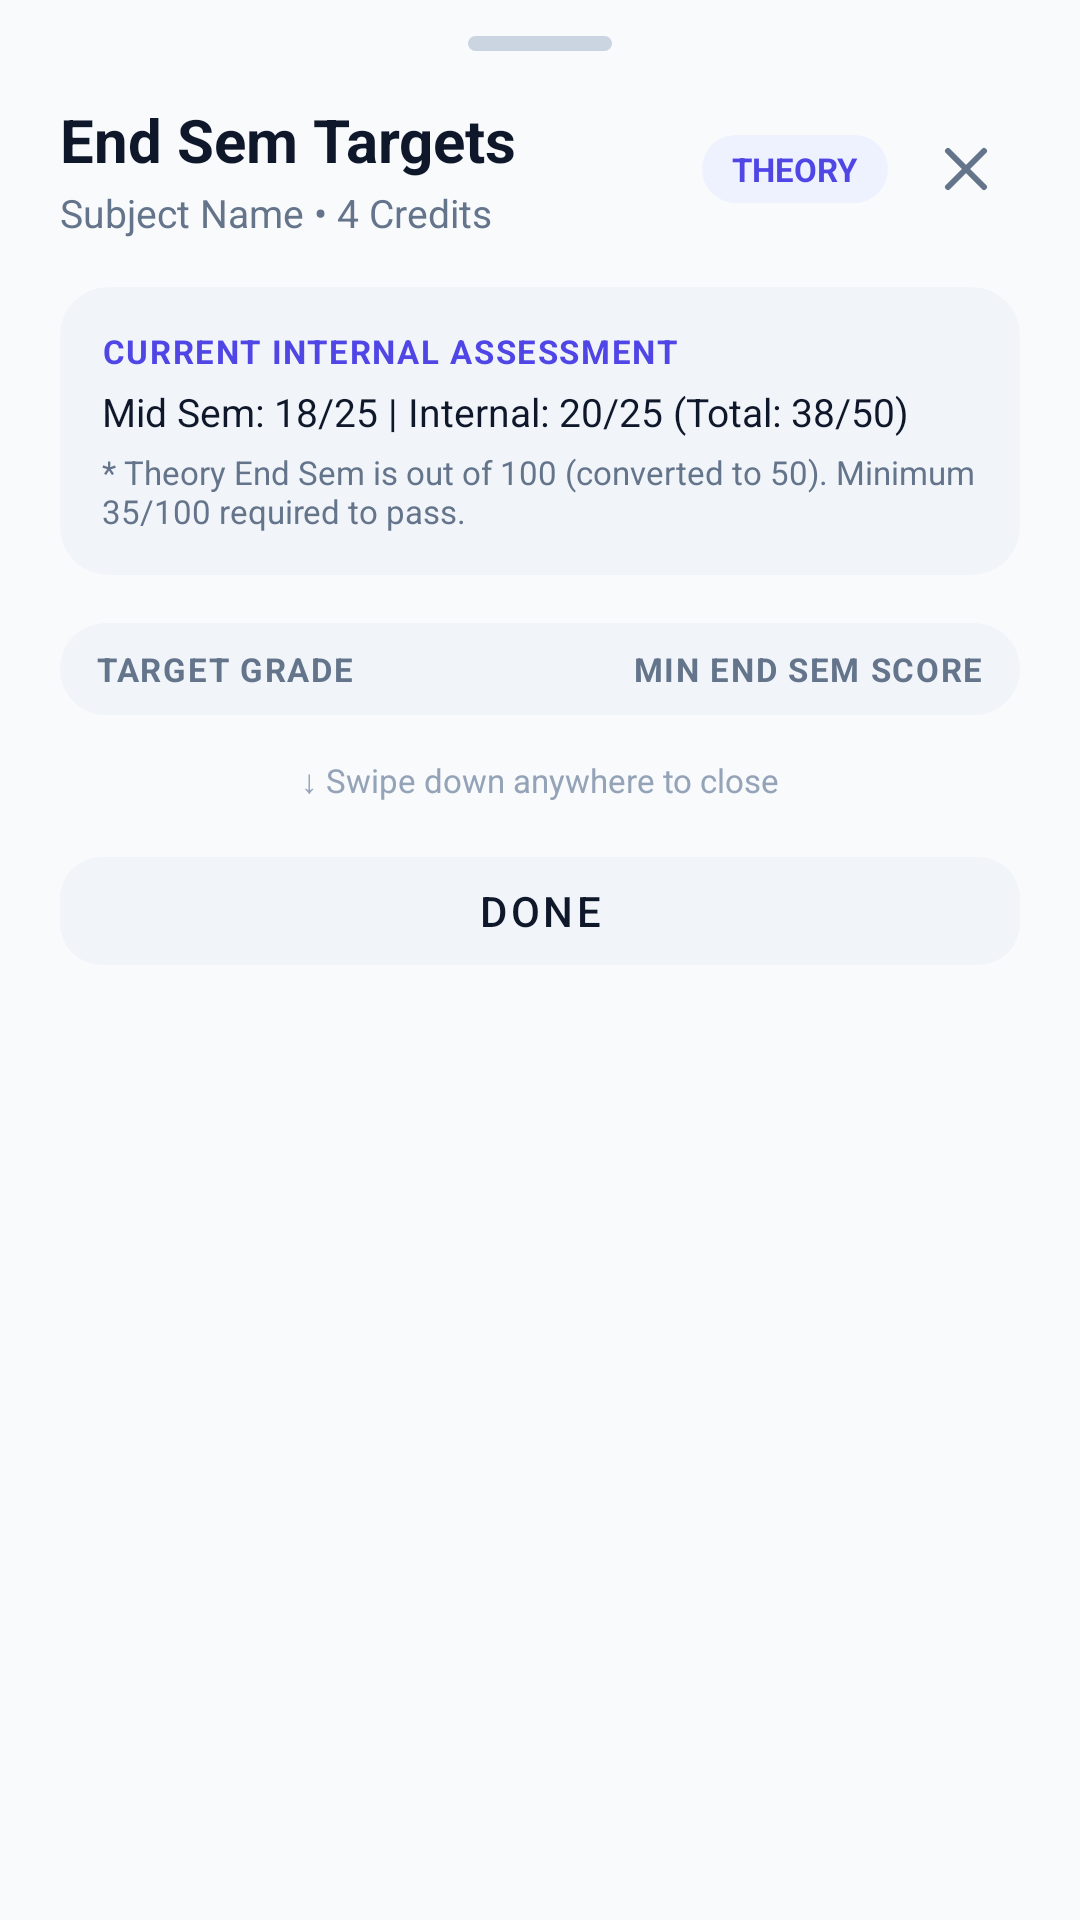

Icon click points for this 1080 × 1920 phone screenshot, format point (x, y):
Close: point (966, 169)
